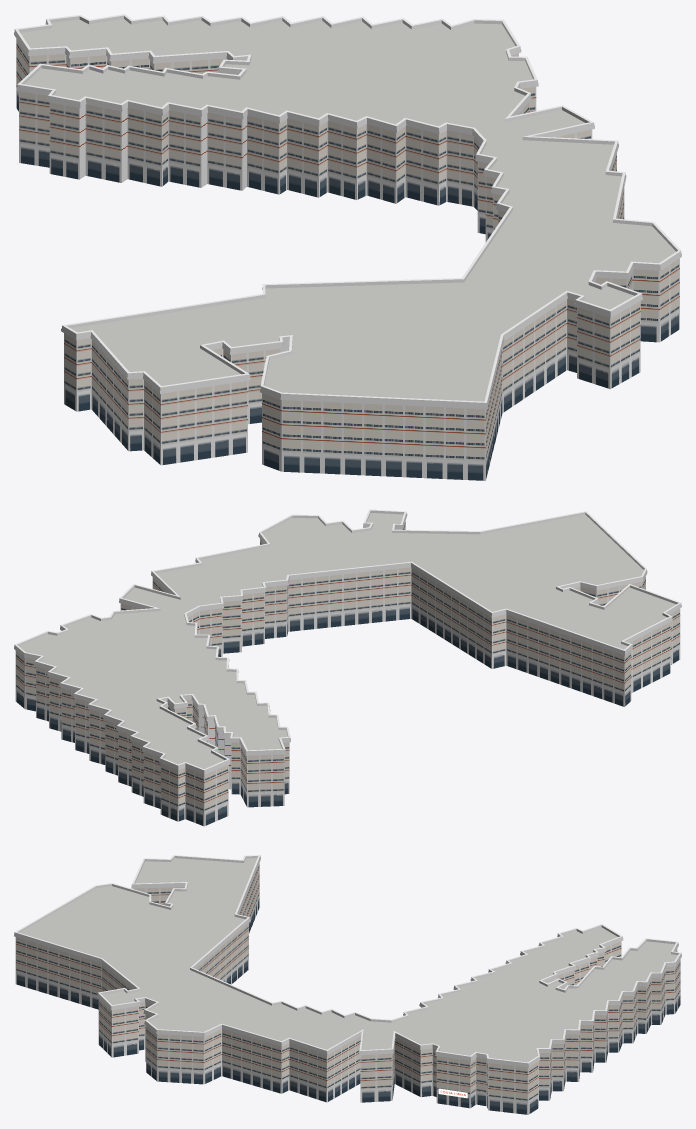
The model's file is costalinda.glb.
3 renders of one model, top to bottom at view 1: azimuth 30°, elevation 25°; view 2: azimuth 150°, elevation 25°; view 3: azimuth 270°, elevation 25°, orthographic. The views are drawn at different scales.
Parts seen in each view (by area): view 1: costalinda_lod0; view 2: costalinda_lod0; view 3: costalinda_lod0.
Part boxes in pixels (x1,y1,x2,y2): costalinda_lod0: [14, 14, 681, 480]; costalinda_lod0: [14, 509, 681, 826]; costalinda_lod0: [14, 855, 681, 1114].
Size of what is drawn, in the model's own units: 144 by 16.71 by 194.
Materials: 5 (3 with a texture image).
